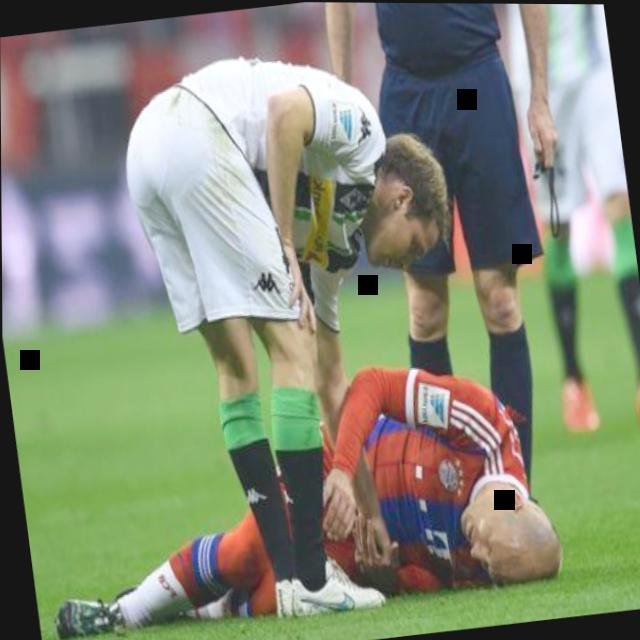Fall-Detected: (22, 349, 601, 638)
